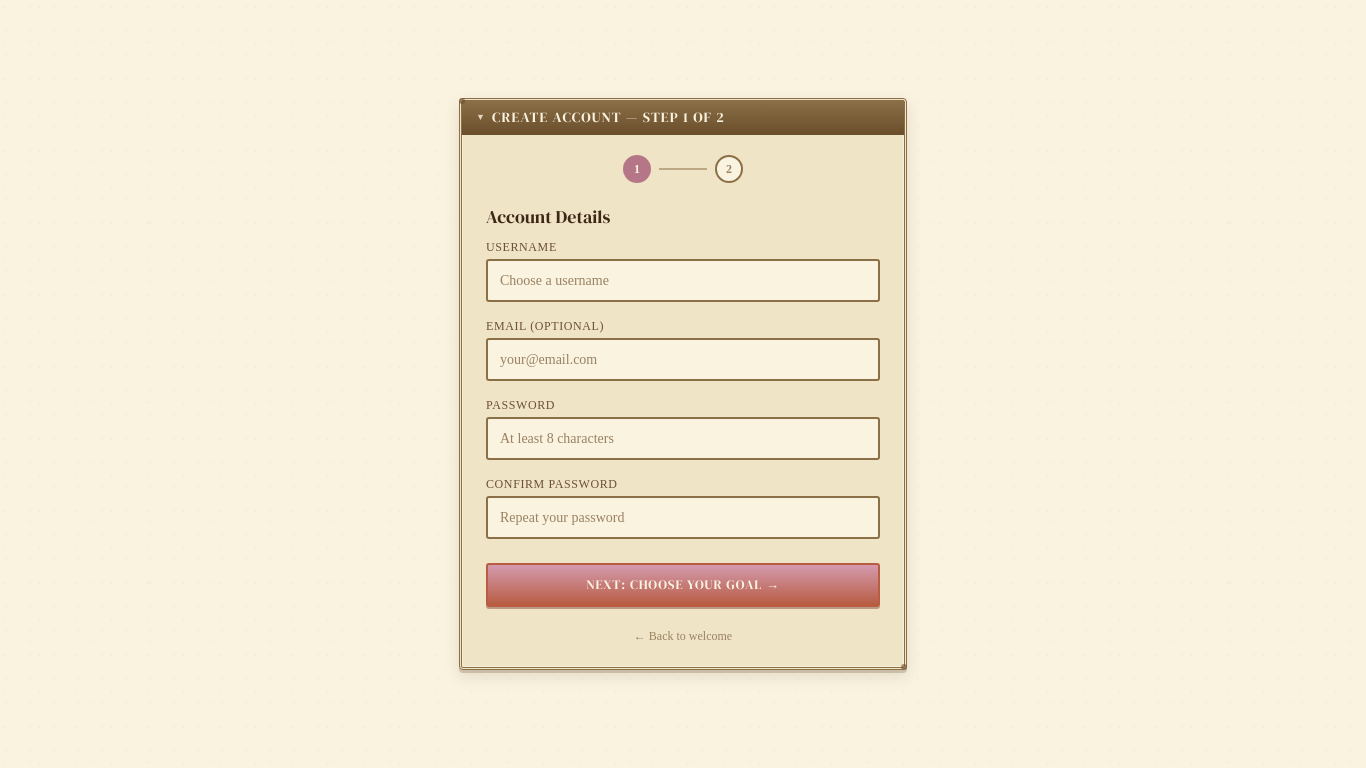
Scenario: RegisterPage — account details › refuses passwords that do not match
The width and height of the screenshot is (1366, 768).
Type "elena" into the field with placeholder "Choose a username".
click(683, 281); type("elena")  # box [486,259,880,302]
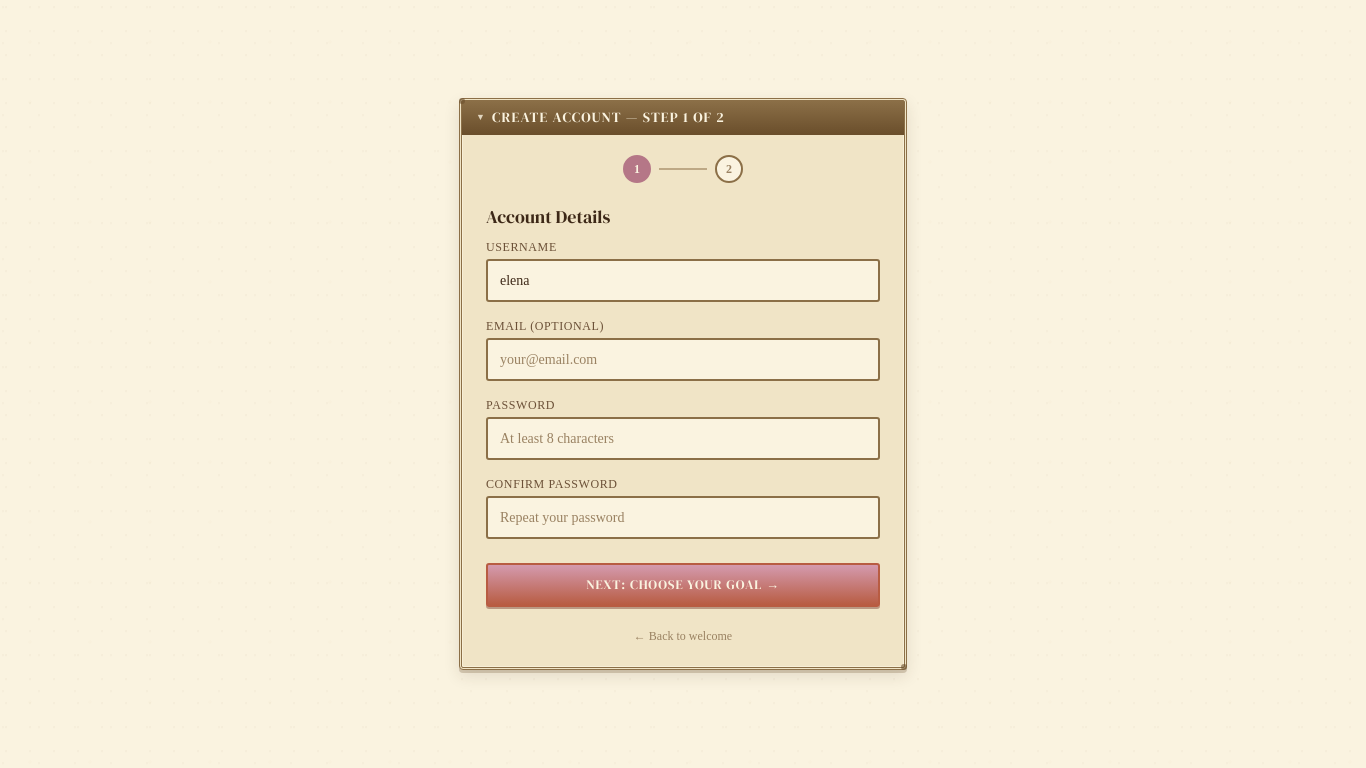
Type "longenough" into the password field with placeholder "At least 8 characters".
click(683, 439); type("longenough")  # box [486,417,880,460]
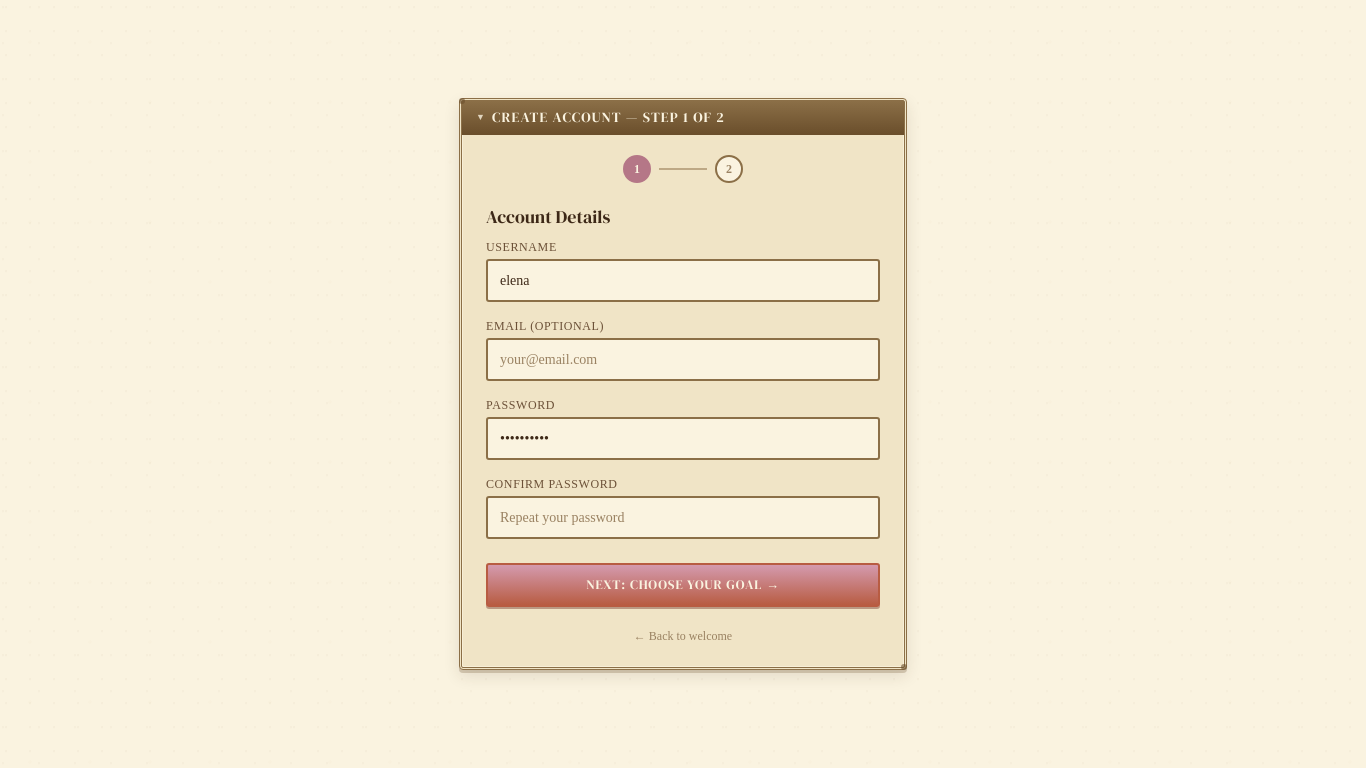
Type "longenougher" into the password field with placeholder "Repeat your password".
click(683, 518); type("longenougher")  # box [486,496,880,539]
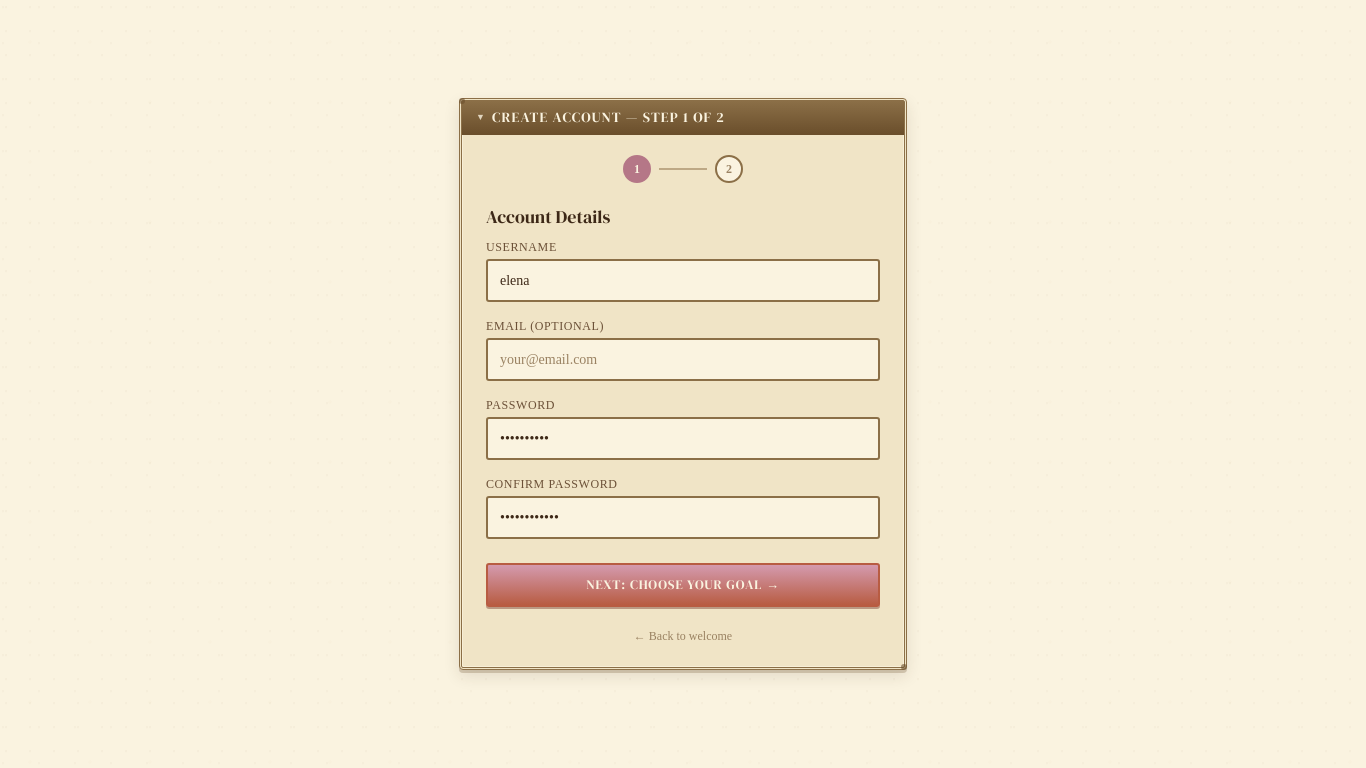
Click the button "Next: Choose Your Goal →".
click(683, 585)  # box [486,563,880,607]
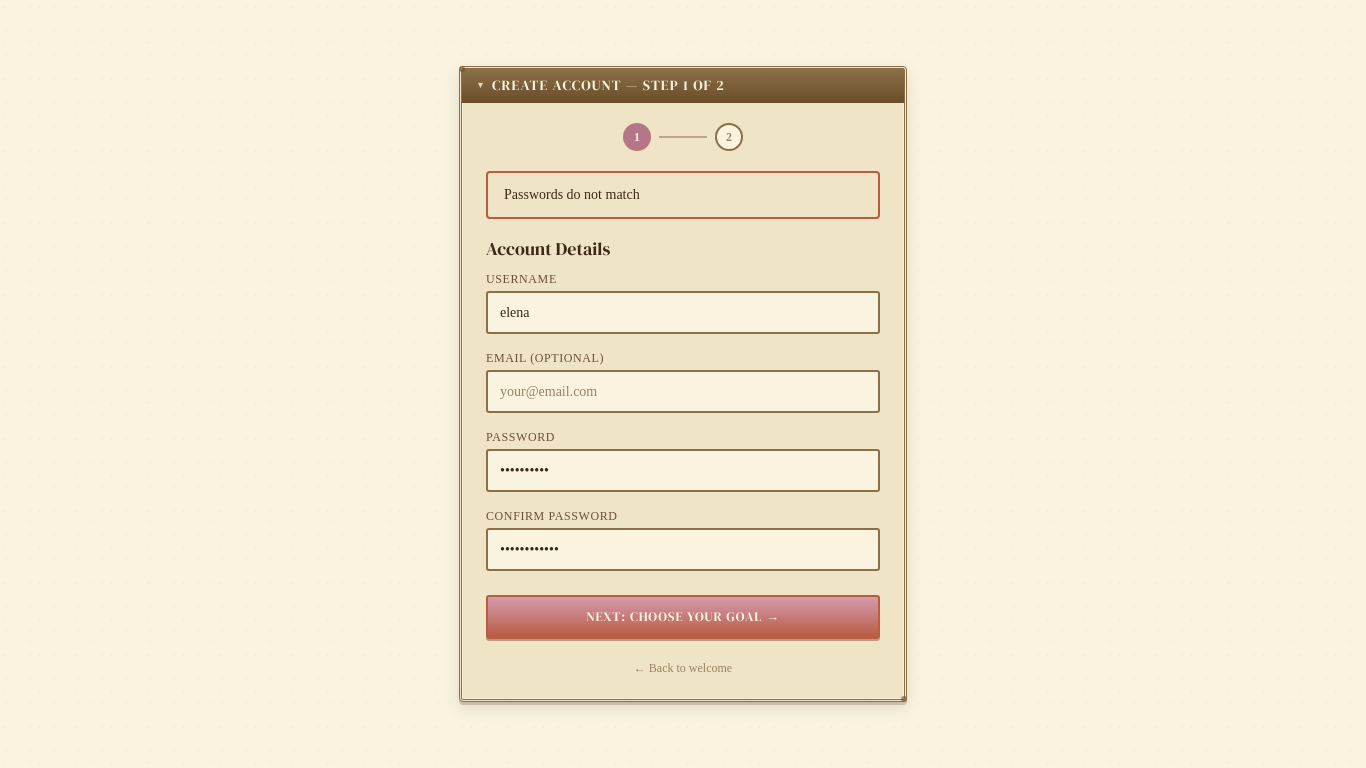
Expected: the text "Passwords do not match" is shown, [486,171,880,219]
